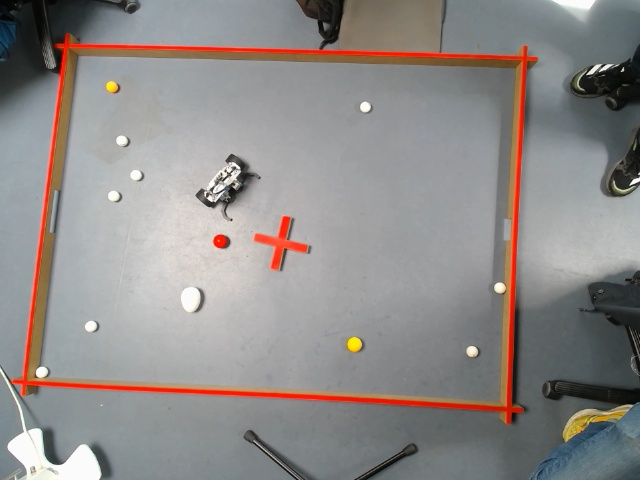big_goal: (32, 174, 64, 245)
cross: (246, 210, 316, 273)
egg: (176, 284, 204, 312)
orange: (104, 80, 116, 92)
robot: (192, 149, 264, 222)
small_goal: (498, 204, 521, 243)
wall: (6, 372, 528, 420), (13, 30, 80, 396), (52, 33, 541, 71), (494, 41, 531, 428)
white: (358, 99, 372, 114), (106, 189, 120, 203), (83, 318, 96, 333), (464, 344, 477, 357), (116, 134, 129, 146), (130, 168, 142, 180), (494, 281, 506, 291)
